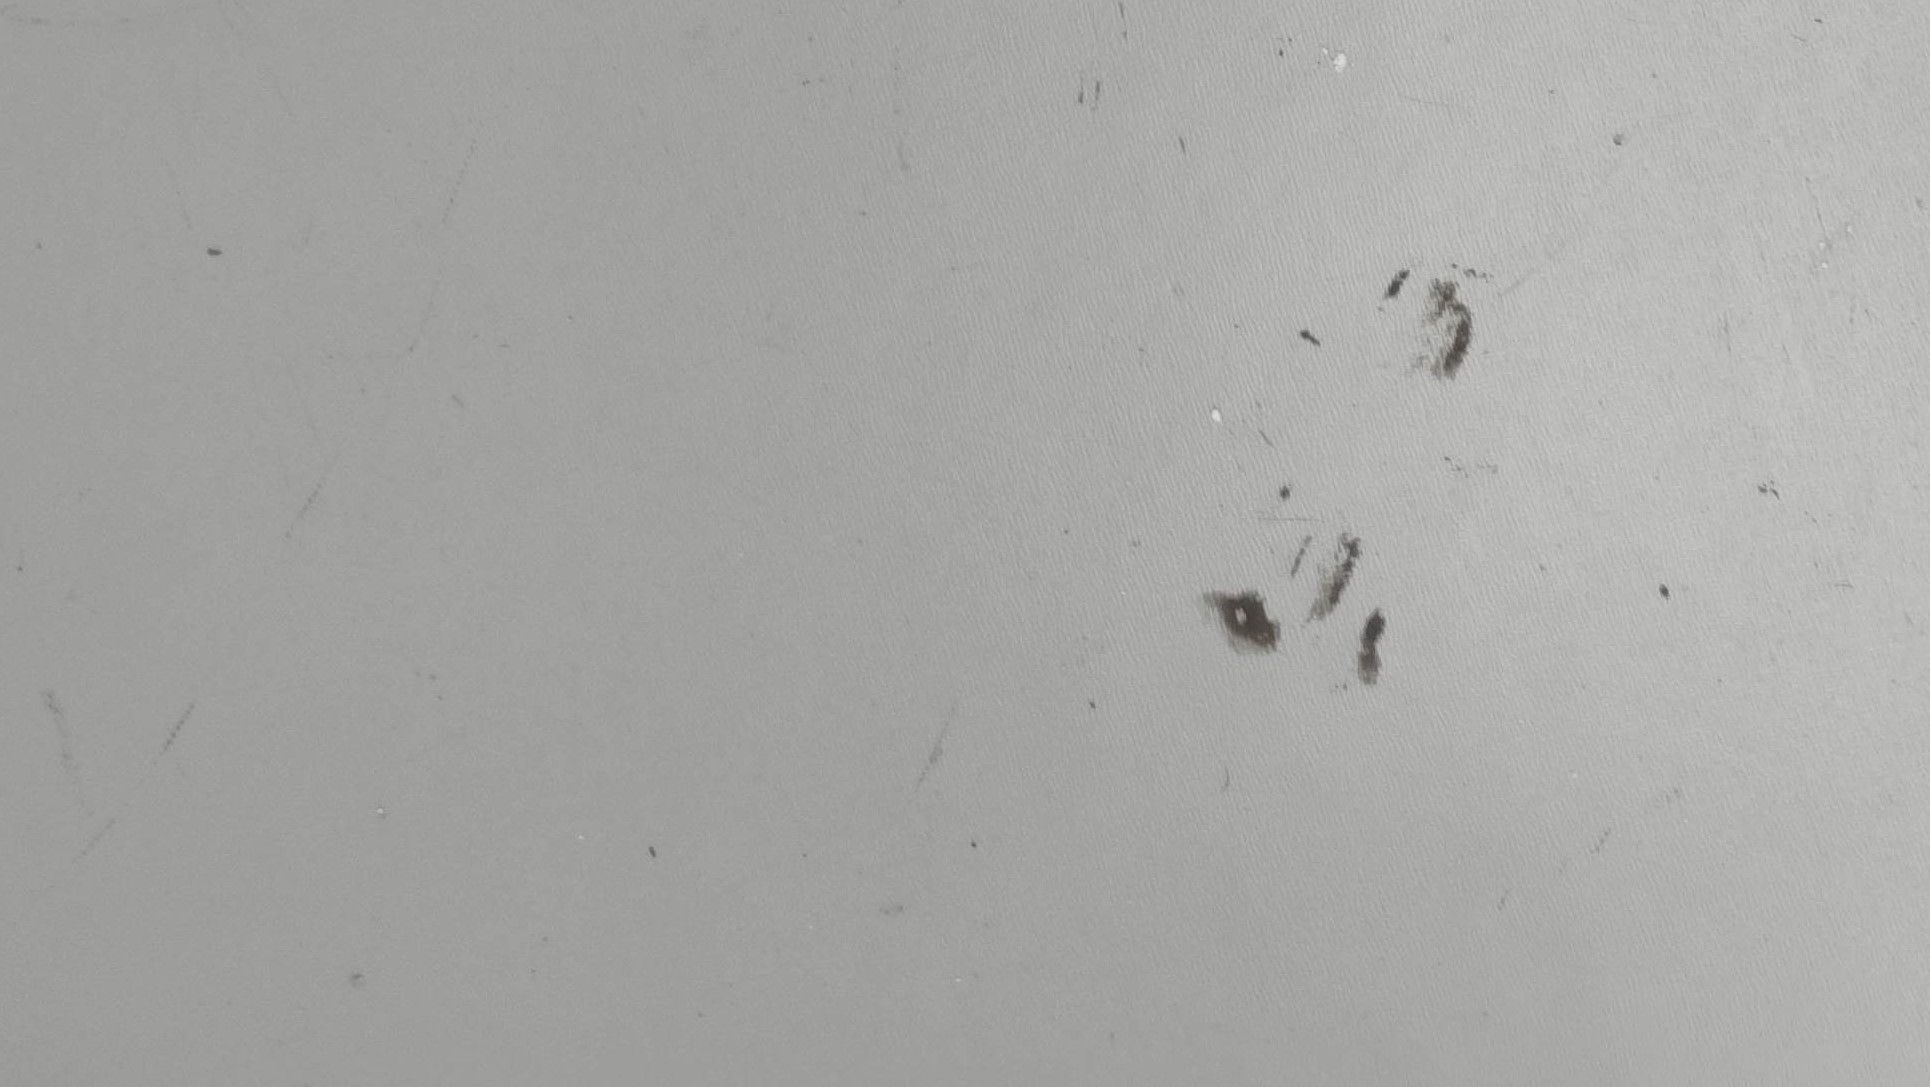grey spot: (1377, 262, 1493, 379), (1291, 532, 1361, 624), (1204, 590, 1280, 654), (1357, 608, 1387, 684), (1298, 327, 1322, 346), (1277, 483, 1292, 500)
